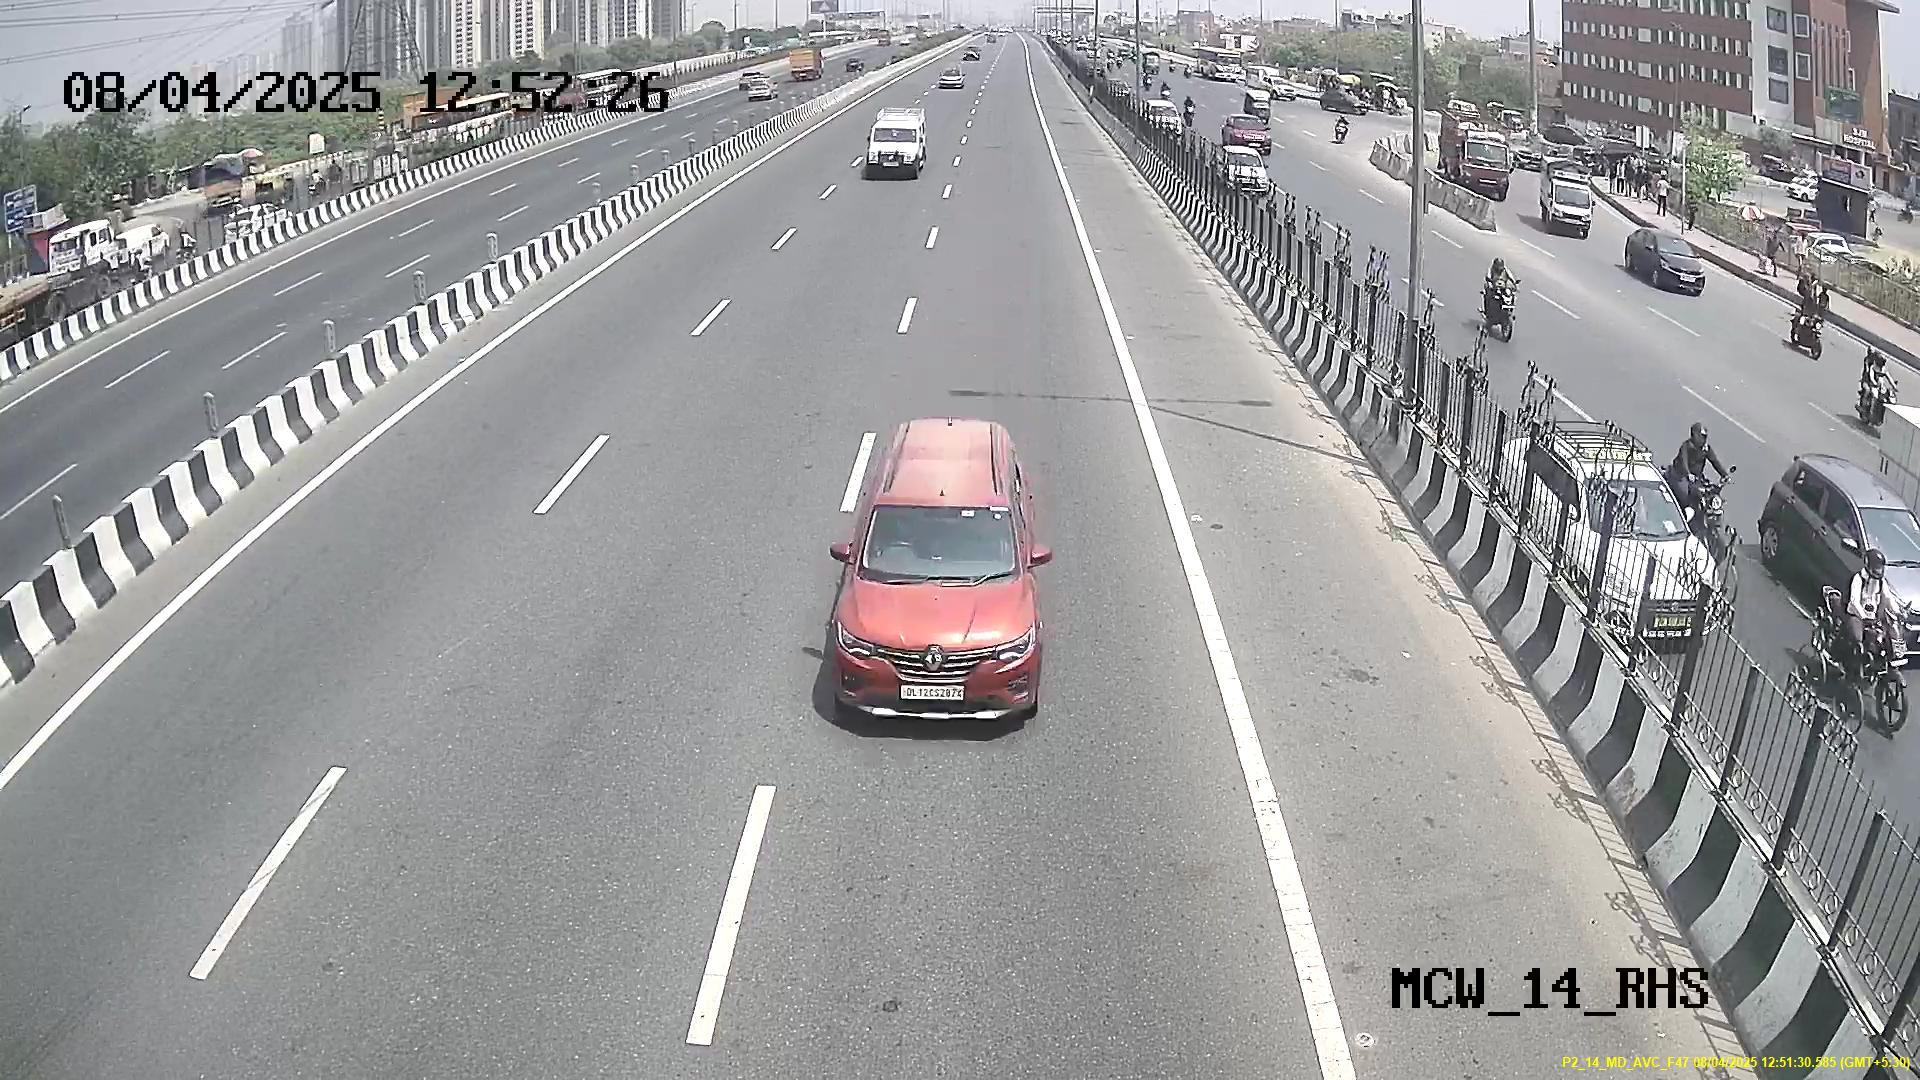car: (825, 475, 1056, 731), (864, 105, 932, 181)
